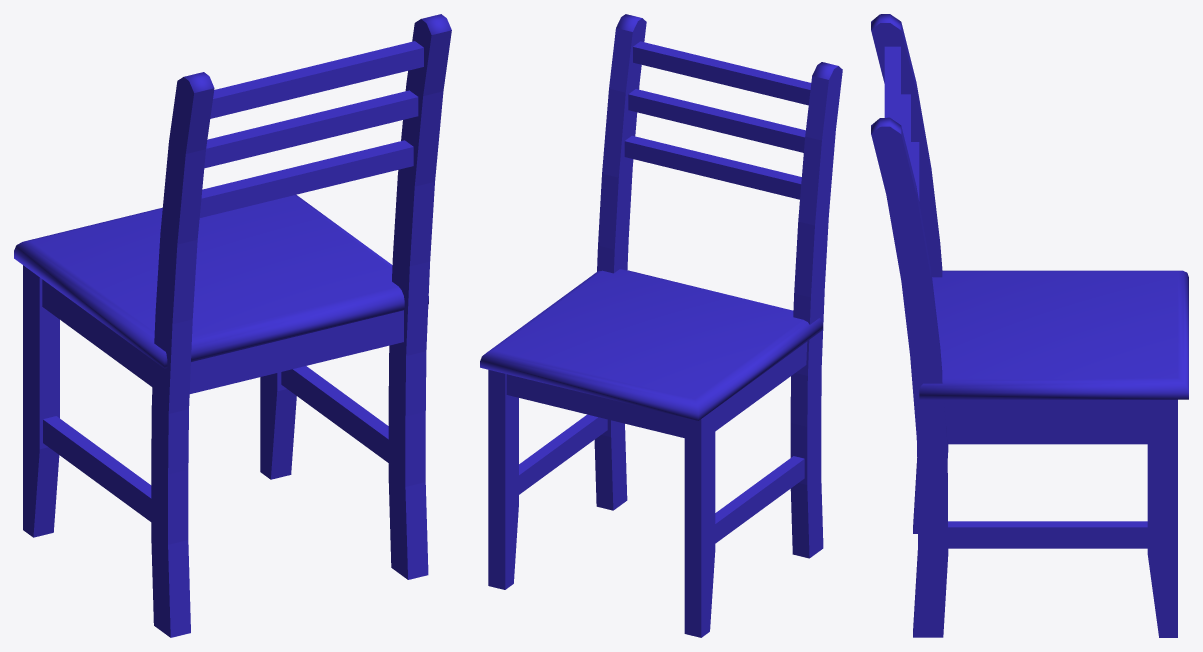
File: Lerhamn.fbx
The picture shows the model from 3 angles, left to right: view 1: azimuth 30°, elevation 25°; view 2: azimuth 150°, elevation 25°; view 3: azimuth 270°, elevation 25°; orthographic projection. The views are drawn at different scales.
Visible parts, largest first — view 1: Low; view 2: Low; view 3: Low.
Boxes of the visible parts, bbox=[...] form: Low: bbox=[14, 14, 451, 637]; Low: bbox=[480, 14, 842, 637]; Low: bbox=[871, 14, 1188, 637].
Bounding box in the file's own units: 106 × 219 × 123.
